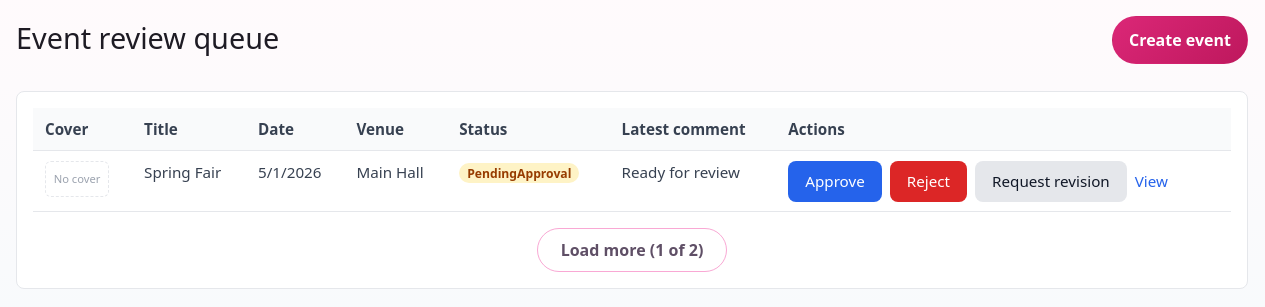
Scenario: ApprovalQueueView › loads more pending approvals when total exceeds the loaded items
Click the button with test id "load-more-approvals". click: (632, 250)
box: top-left (537, 228), bottom-right (727, 272)
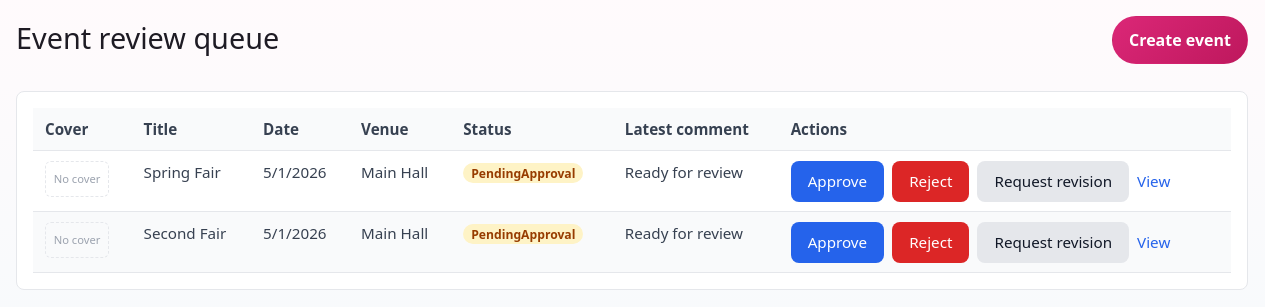
Expected: the button with test id "approve-p2" is shown, top-left (791, 222), bottom-right (884, 263)
